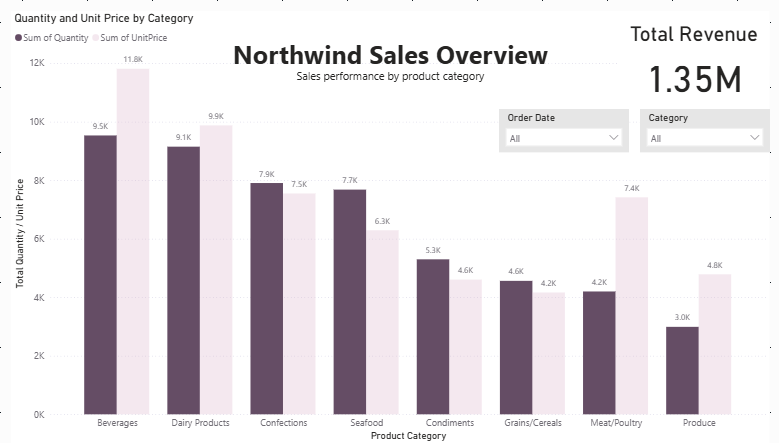

What the dashboard file says about the page in this screenshot:
{"tool":"powerbi","page":{"name":"Sales Overview","canvas":[1280,720],"ordinal":0},"visuals":[{"type":"clusteredColumnChart","title":"Quantity and Unit Price by Category","fields":{"Category":["northwind categories.CategoryName"],"Y":["Sum(northwind order details.Quantity)","Sum(northwind order details.UnitPrice)"]},"box":[80,80,1120,640],"z":0},{"type":"textbox","box":[400,112,480,64],"z":1000},{"type":"card","title":"Total Revenue","fields":{"Values":["northwind order details.Revenue"]},"box":[992,128,192,96],"z":2000},{"type":"textbox","title":"Total Revenue","box":[976,96,224,64],"z":3000},{"type":"textbox","box":[496,160,288,32],"z":4000},{"type":"slicer","title":"Select Order Date","fields":{"Values":["northwind orders.OrderDate"]},"box":[800,224,192,64],"z":5000},{"type":"slicer","fields":{"Values":["northwind categories.CategoryName"]},"box":[1008,224,192,64],"z":6000}]}

Visuals, with their boxes in screenshot pixels (x1, y1, x2, y2), scaled from the page's 1280x720 canvas onto the 779x443 screenshot:
"Quantity and Unit Price by Category" clusteredColumnChart: bbox=(49, 49, 730, 442)
textbox: bbox=(243, 69, 536, 108)
"Total Revenue" card: bbox=(604, 79, 721, 138)
"Total Revenue" textbox: bbox=(594, 59, 730, 98)
textbox: bbox=(302, 98, 477, 118)
"Select Order Date" slicer: bbox=(487, 138, 604, 177)
slicer - northwind categories.CategoryName: bbox=(613, 138, 730, 177)
